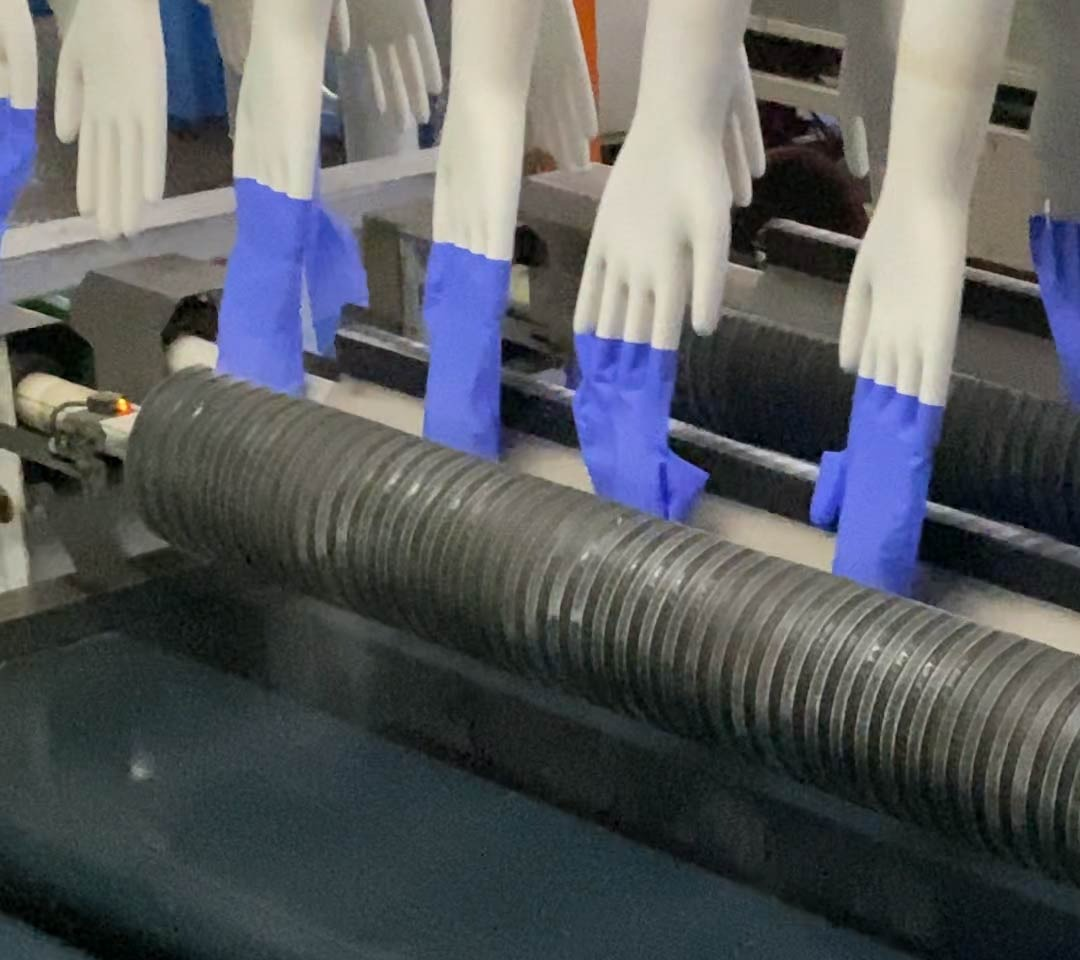glove: (799, 369, 943, 601), (561, 328, 706, 530), (212, 175, 317, 402), (412, 241, 507, 467)
